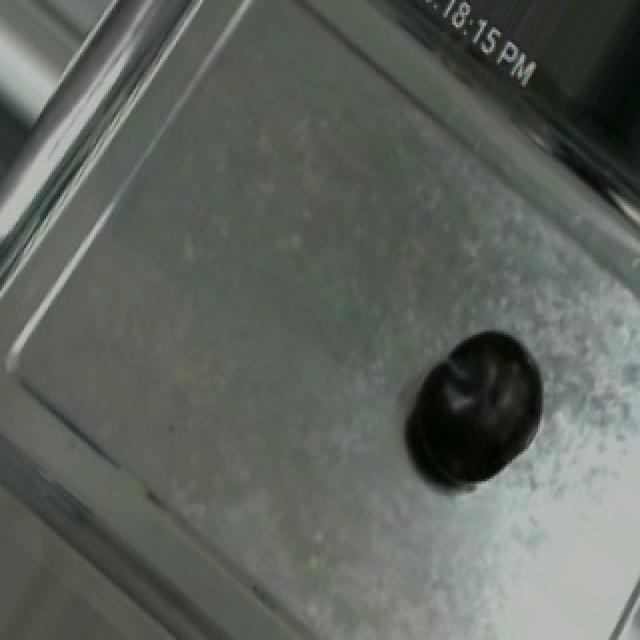Fruit: (392, 310, 564, 504)
